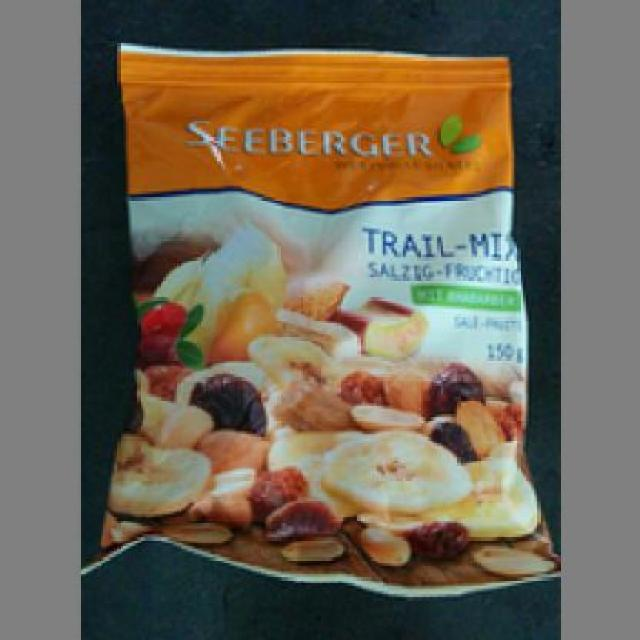Nuts: (91, 34, 554, 600)
